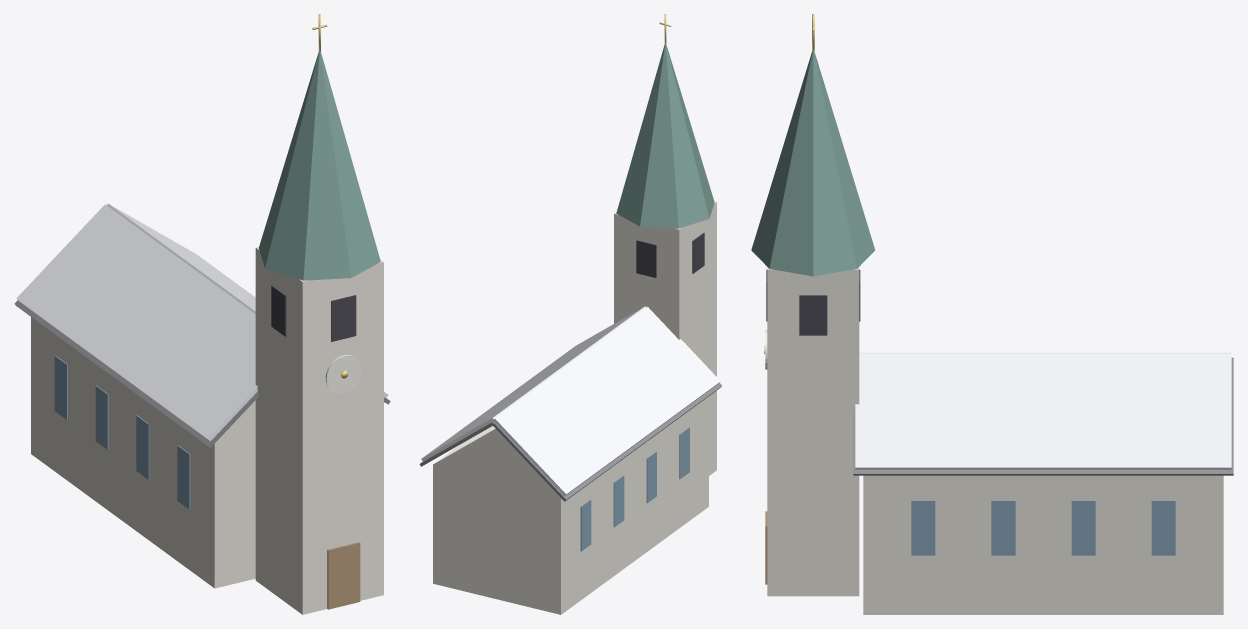
File: church.glb
3 renders of one model, left to right at view 1: azimuth 30°, elevation 25°; view 2: azimuth 150°, elevation 25°; view 3: azimuth 270°, elevation 25°, orthographic. The views are drawn at different scales.
Visible parts, largest first — view 1: church; view 2: church; view 3: church.
Boxes of the visible parts, box(x1,y1,x2,y2) form: church: box(14, 14, 390, 614); church: box(419, 14, 722, 614); church: box(751, 14, 1233, 614).
Size of the model in its own units: 10.32 by 31 by 24.1.
